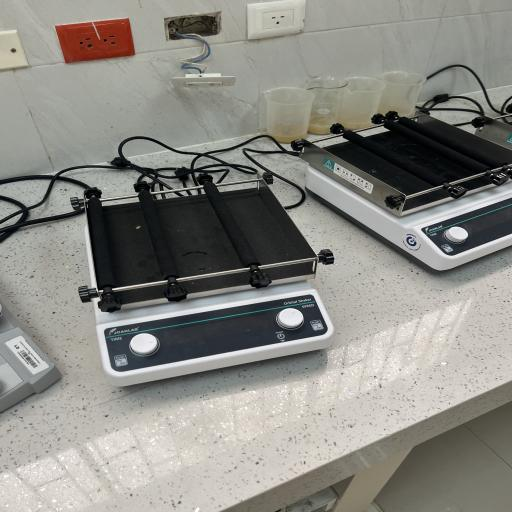Agitador_Orbital_DLAB: (58, 169, 348, 395)
